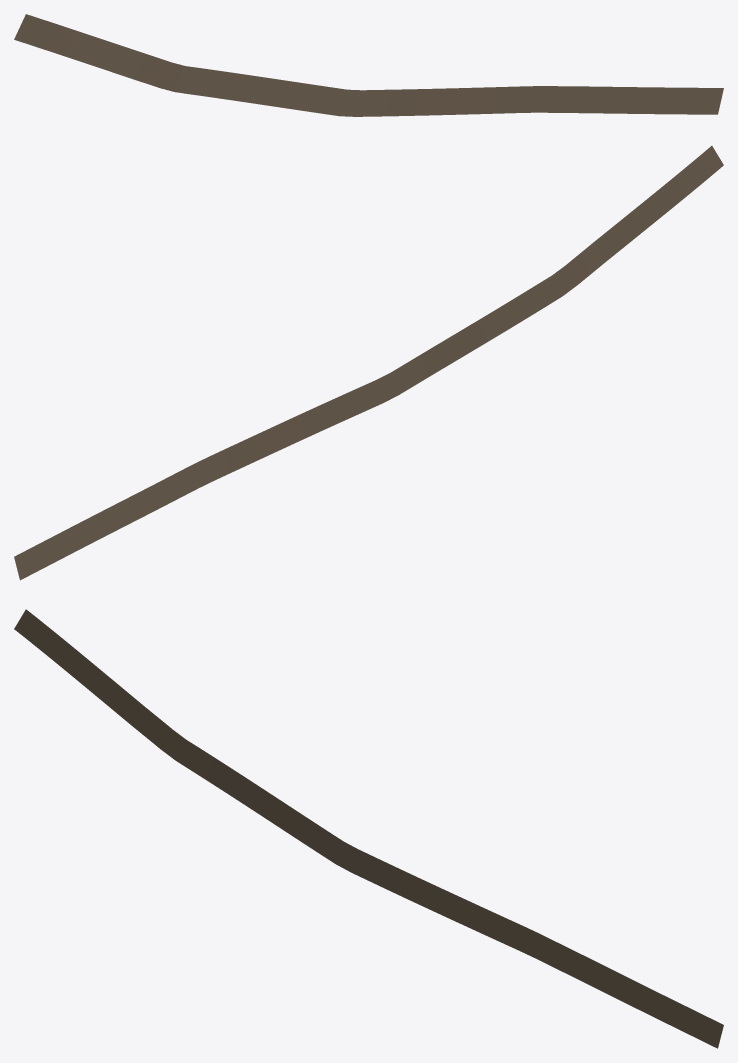
The model's file is SARM_SAR_Track_Forest.glb.
The picture shows the model from 3 angles, top to bottom: view 1: azimuth 30°, elevation 25°; view 2: azimuth 210°, elevation 25°; view 3: azimuth 330°, elevation 25°; orthographic projection.
Parts seen in each view (by area): view 1: SAR_Track_Forest.001; view 2: SAR_Track_Forest.001; view 3: SAR_Track_Forest.001.
Boxes of the visible parts, left/top/right/bottom form: SAR_Track_Forest.001: left=14, top=14, right=723, bottom=116; SAR_Track_Forest.001: left=14, top=146, right=723, bottom=580; SAR_Track_Forest.001: left=14, top=609, right=723, bottom=1048.
Size of the model in its own units: 91.16 by 32.95 by 0.8568.
